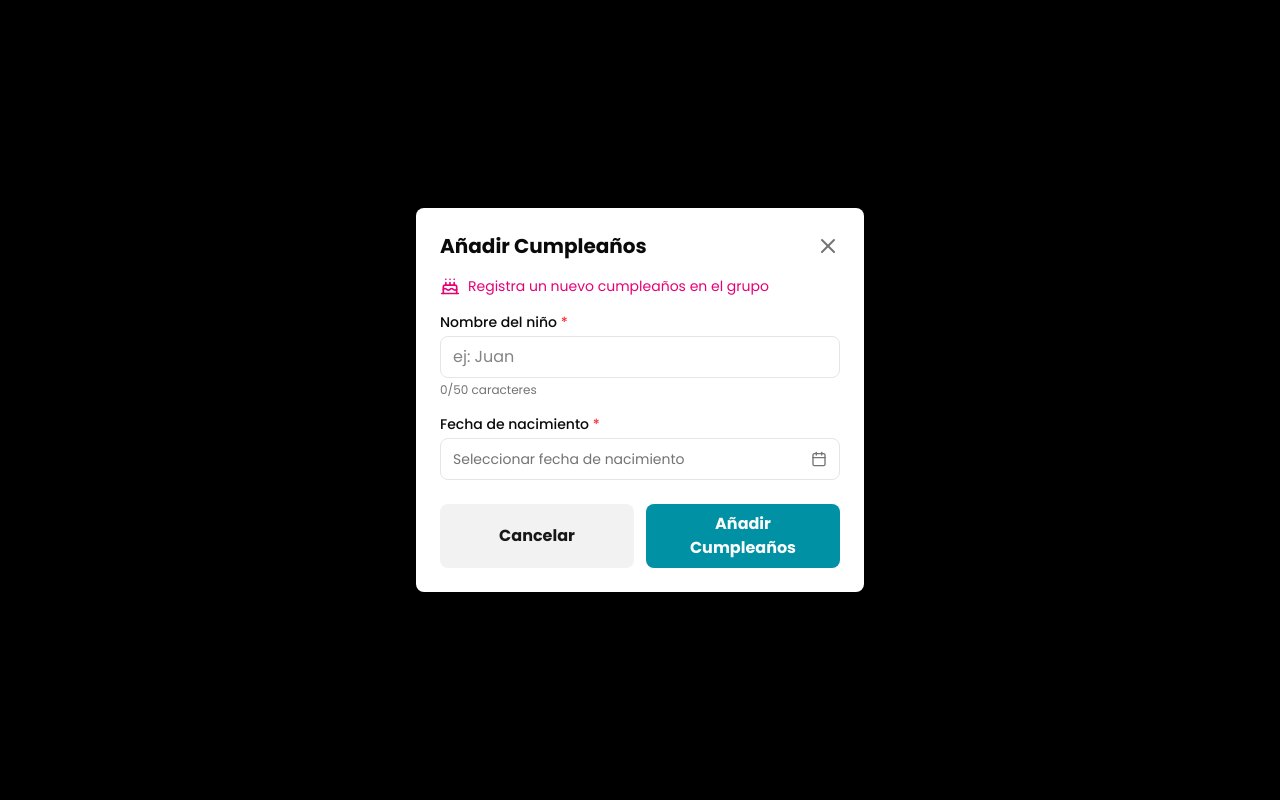
Scenario: AddBirthdayModal › muestra error cuando nombre está vacío
Click the button "Añadir Cumpleaños": (743, 536) [646, 504, 840, 568]
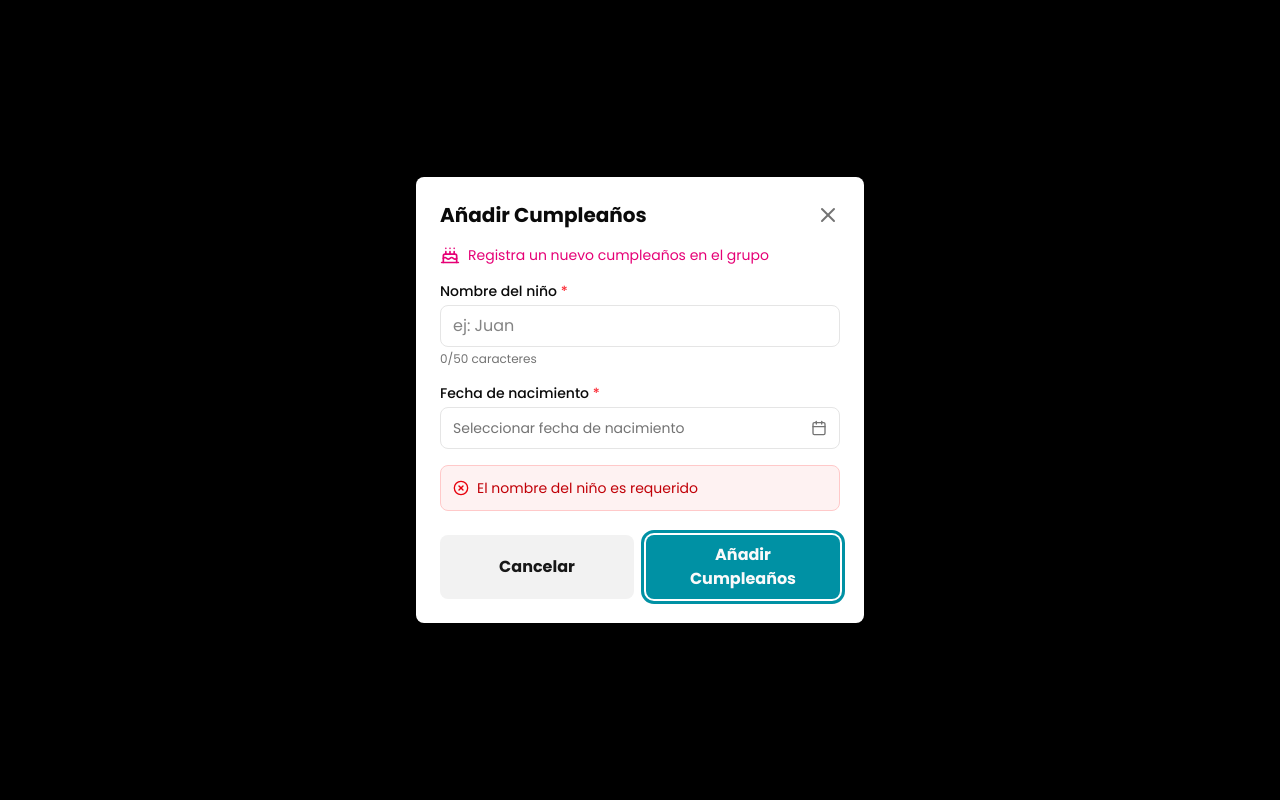
Result: the text "El nombre del niño es requerido" is shown at [477, 478, 698, 498]
